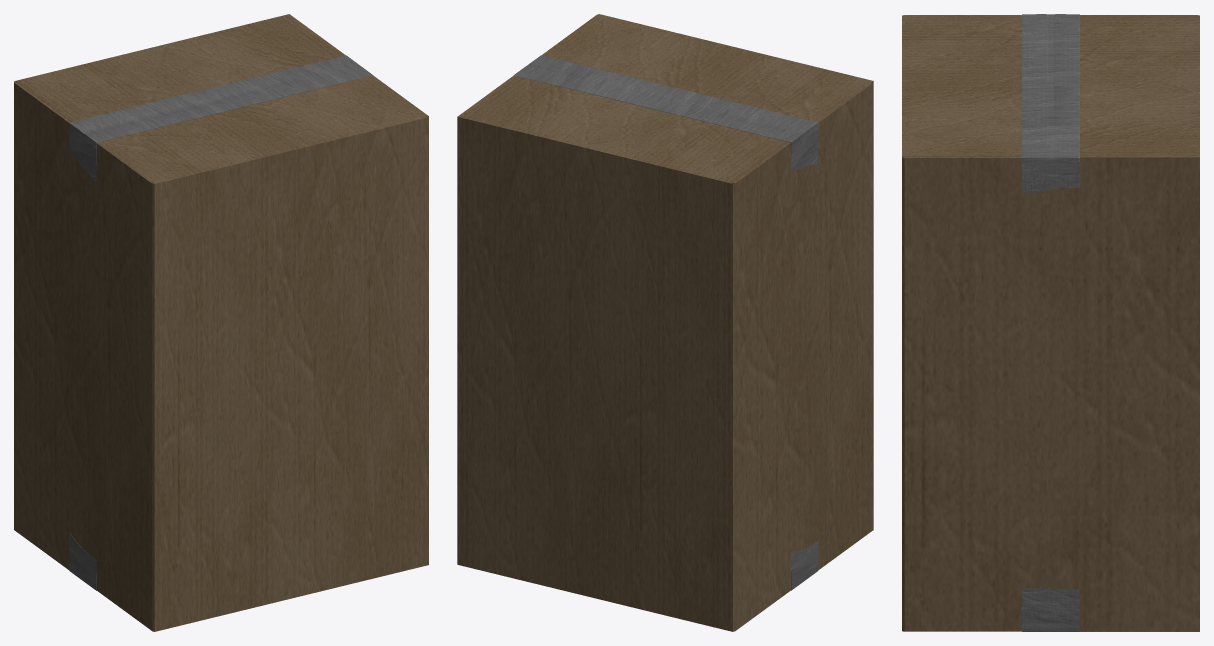
File: PlantCrate.fbx
3 views of the same model, side by side, from view 1: azimuth 30°, elevation 25°; view 2: azimuth 150°, elevation 25°; view 3: azimuth 270°, elevation 25° (orthographic). The views are drawn at different scales.
Visible parts, largest first — view 1: Cardboard Box SQ01.003; view 2: Cardboard Box SQ01.003; view 3: Cardboard Box SQ01.003.
Boxes of the visible parts, x1=… form: Cardboard Box SQ01.003: x1=14, y1=14, x2=428, y2=631; Cardboard Box SQ01.003: x1=457, y1=14, x2=873, y2=631; Cardboard Box SQ01.003: x1=902, y1=14, x2=1199, y2=631.
Bounding box in the file's own units: 119 × 183 × 104.
